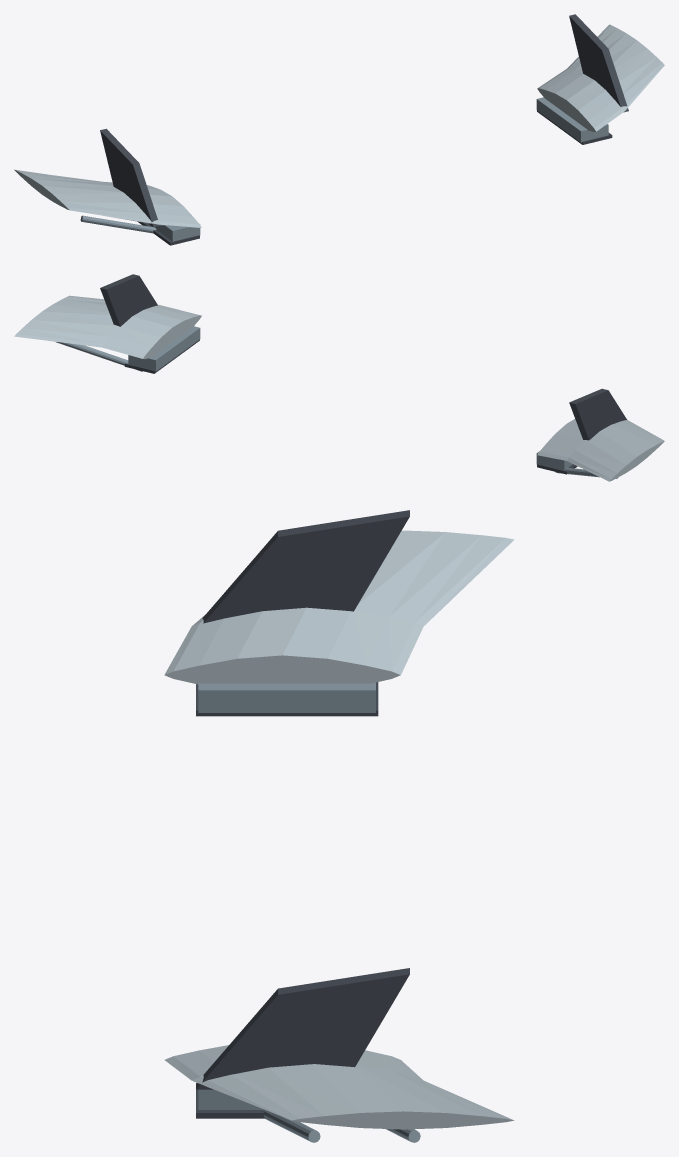
File: quarter_fins_2.glb
3 views of the same model, one above another, from view 1: azimuth 30°, elevation 25°; view 2: azimuth 150°, elevation 25°; view 3: azimuth 270°, elevation 25° (orthographic). The views are drawn at different scales.
Parts seen in each view (by area): view 1: QUARTER_STARBOARD_MAIN_CANARD, QUARTER_PORT_MAIN_CANARD, QUARTER_STARBOARD_ARMORED_FENCE, QUARTER_PORT_ARMORED_FENCE, QUARTER_STARBOARD_ROOT_SHOE, QUARTER_PORT_UNDERSTRUT_1, QUARTER_PORT_ROOT_SHOE; view 2: QUARTER_STARBOARD_MAIN_CANARD, QUARTER_PORT_MAIN_CANARD, QUARTER_STARBOARD_ARMORED_FENCE, QUARTER_PORT_ARMORED_FENCE, QUARTER_STARBOARD_ROOT_SHOE, QUARTER_STARBOARD_UNDERSTRUT_0, QUARTER_PORT_ROOT_SHOE; view 3: QUARTER_PORT_MAIN_CANARD, QUARTER_STARBOARD_MAIN_CANARD, QUARTER_PORT_ARMORED_FENCE, QUARTER_STARBOARD_ARMORED_FENCE, QUARTER_PORT_ROOT_SHOE, QUARTER_PORT_ROOT_GASKET.
Boxes of the visible parts, x1=… form: QUARTER_STARBOARD_MAIN_CANARD: x1=537, y1=24, x2=664, y2=131; QUARTER_PORT_MAIN_CANARD: x1=14, y1=169, x2=201, y2=228; QUARTER_STARBOARD_ARMORED_FENCE: x1=569, y1=14, x2=628, y2=112; QUARTER_PORT_ARMORED_FENCE: x1=100, y1=128, x2=159, y2=226; QUARTER_STARBOARD_ROOT_SHOE: x1=536, y1=97, x2=608, y2=142; QUARTER_PORT_UNDERSTRUT_1: x1=80, y1=215, x2=156, y2=233; QUARTER_PORT_ROOT_SHOE: x1=148, y1=223, x2=200, y2=241; QUARTER_STARBOARD_MAIN_CANARD: x1=14, y1=295, x2=201, y2=358; QUARTER_PORT_MAIN_CANARD: x1=537, y1=419, x2=664, y2=481; QUARTER_STARBOARD_ARMORED_FENCE: x1=100, y1=274, x2=157, y2=326; QUARTER_PORT_ARMORED_FENCE: x1=569, y1=388, x2=626, y2=440; QUARTER_STARBOARD_ROOT_SHOE: x1=128, y1=326, x2=200, y2=371; QUARTER_STARBOARD_UNDERSTRUT_0: x1=56, y1=342, x2=142, y2=371; QUARTER_PORT_ROOT_SHOE: x1=536, y1=451, x2=572, y2=470; QUARTER_PORT_MAIN_CANARD: x1=164, y1=530, x2=514, y2=684; QUARTER_STARBOARD_MAIN_CANARD: x1=165, y1=1045, x2=514, y2=1129; QUARTER_PORT_ARMORED_FENCE: x1=202, y1=510, x2=409, y2=623; QUARTER_STARBOARD_ARMORED_FENCE: x1=196, y1=968, x2=409, y2=1089; QUARTER_PORT_ROOT_SHOE: x1=198, y1=682, x2=375, y2=712; QUARTER_PORT_ROOT_GASKET: x1=196, y1=682, x2=378, y2=716.
Size of the model in its own units: 3.02 by 0.4135 by 0.77.
